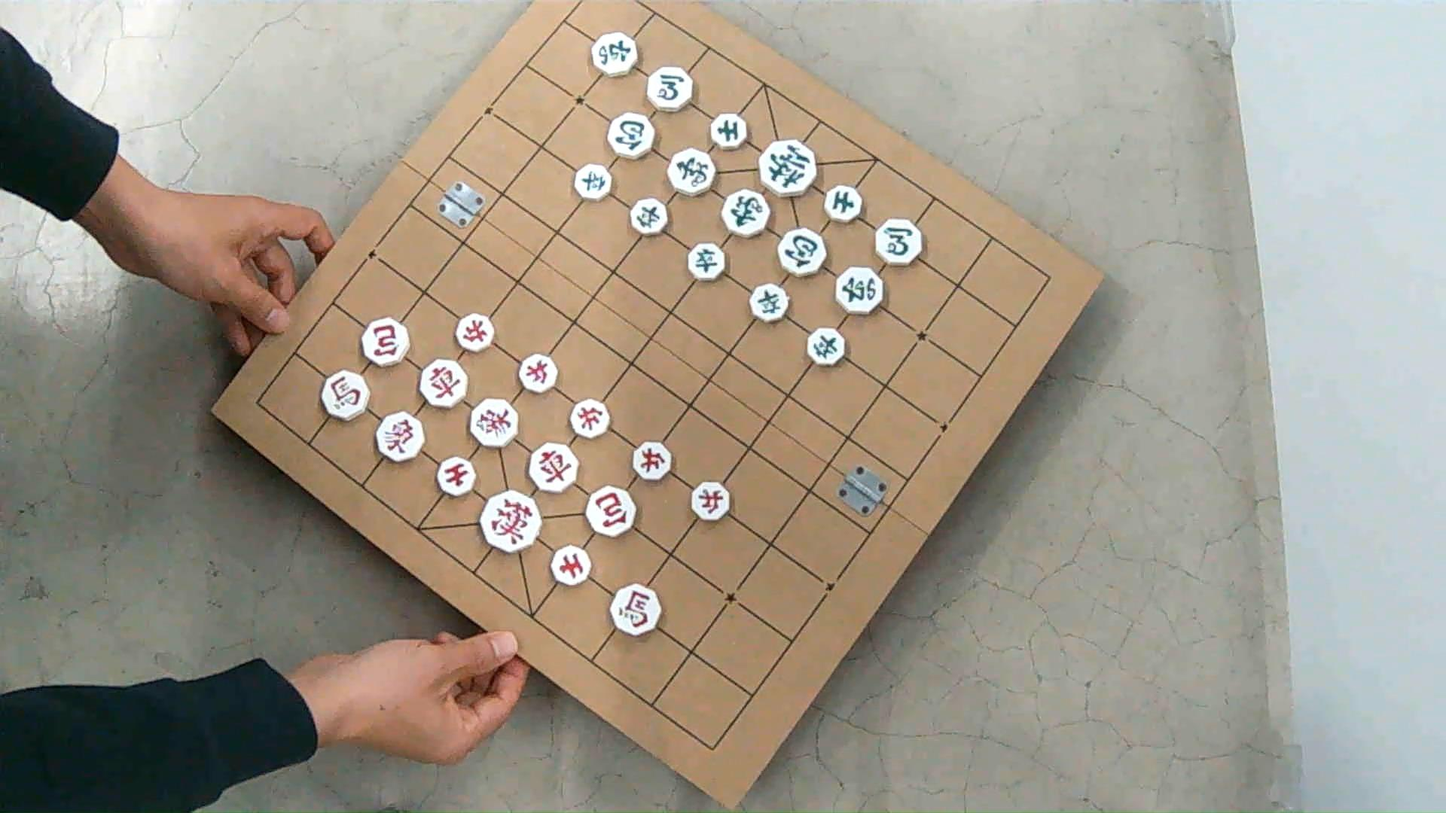cha_green: (835, 266, 885, 315), (592, 32, 638, 76)
cha_red: (528, 443, 578, 493), (420, 359, 467, 408)
jol_green: (807, 327, 846, 366), (687, 243, 726, 281), (750, 284, 789, 321), (574, 164, 612, 200), (630, 198, 668, 234)
jol_red: (455, 312, 495, 352), (569, 399, 610, 438), (691, 481, 731, 520), (631, 442, 671, 481), (518, 354, 558, 392)
ma_green: (874, 218, 923, 265), (646, 66, 692, 111)
ma_red: (610, 584, 660, 635), (321, 370, 368, 420)
po_green: (778, 227, 825, 276), (608, 112, 654, 158)
po_red: (586, 486, 636, 536), (362, 318, 409, 367)
sa_green: (824, 185, 862, 221), (710, 112, 747, 148)
sa_red: (551, 545, 590, 586), (437, 456, 474, 496)
sang_green: (721, 189, 770, 237), (668, 149, 715, 195)
sang_red: (375, 412, 423, 461), (469, 398, 517, 446)
wang_green: (758, 139, 816, 196)
wang_red: (480, 490, 541, 553)
